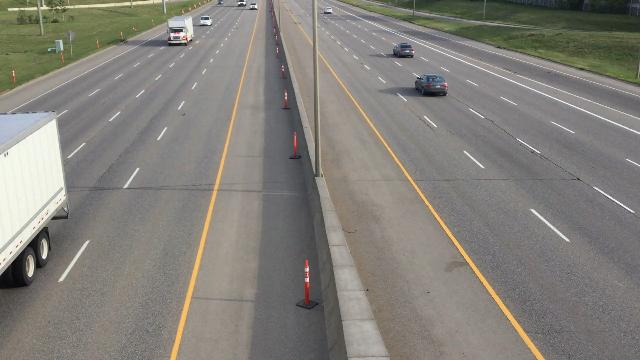car: (413, 73, 450, 96), (393, 42, 416, 59), (199, 14, 213, 28), (250, 2, 259, 11), (324, 6, 332, 14)
truck: (0, 105, 70, 294), (166, 15, 194, 44)
